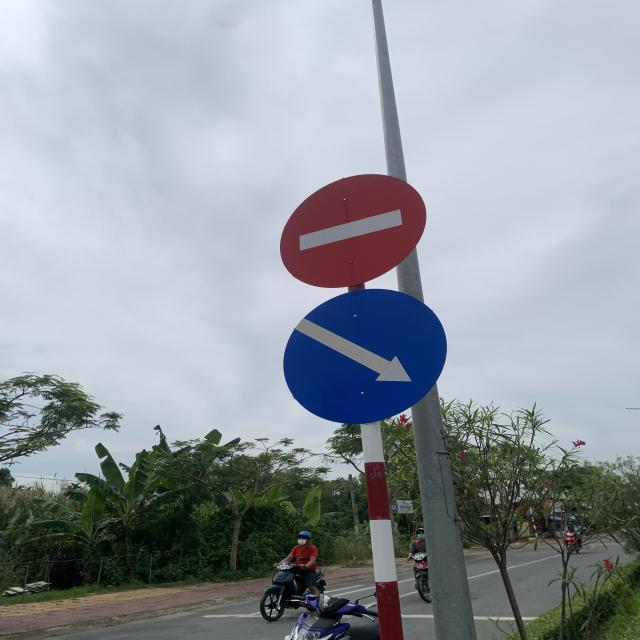Cam_Di_Nguoc_Chieu: (278, 173, 426, 290)
Chi_Huong_Di_Phai: (280, 287, 450, 426)
